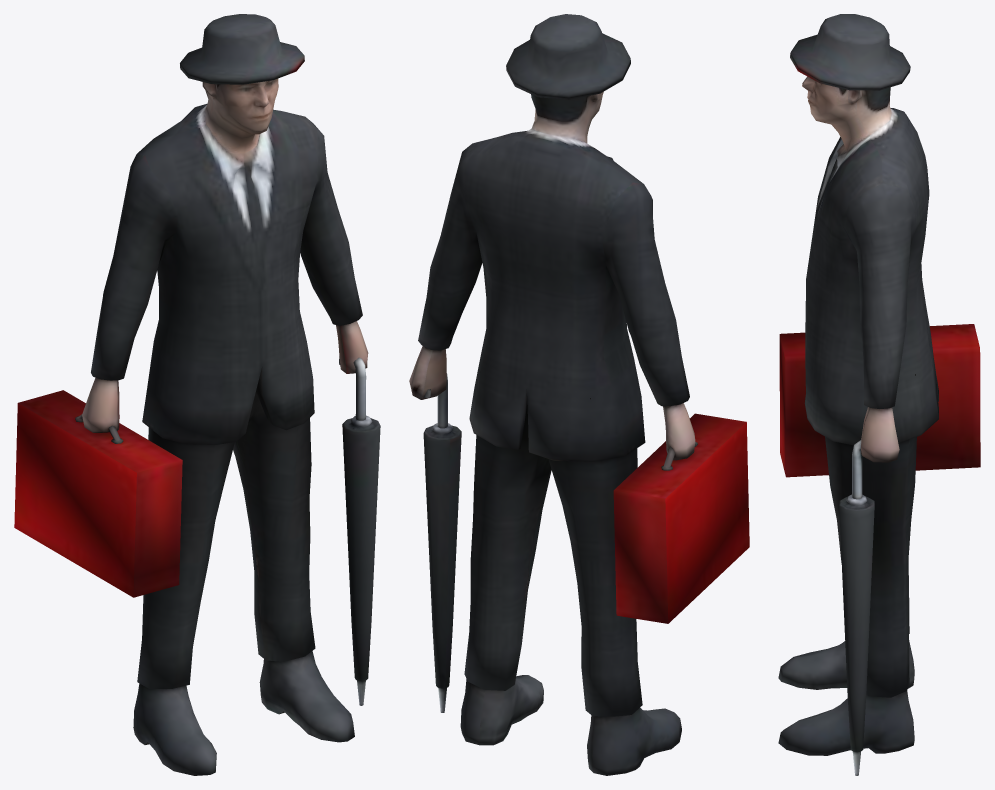
The model's file is Diplomat.glb.
The picture shows the model from 3 angles, left to right: view 1: azimuth 30°, elevation 25°; view 2: azimuth 150°, elevation 25°; view 3: azimuth 270°, elevation 25°; orthographic projection. The views are drawn at different scales.
Parts seen in each view (by area): view 1: Plane; view 2: Plane; view 3: Plane.
Boxes of the visible parts, x1,y1,x2,y2 form: Plane: (14, 14, 380, 775); Plane: (409, 14, 749, 775); Plane: (778, 14, 980, 775).
Bounding box in the file's own units: 0.7495 × 1.69 × 0.4464.
1 material, 1 textured.
